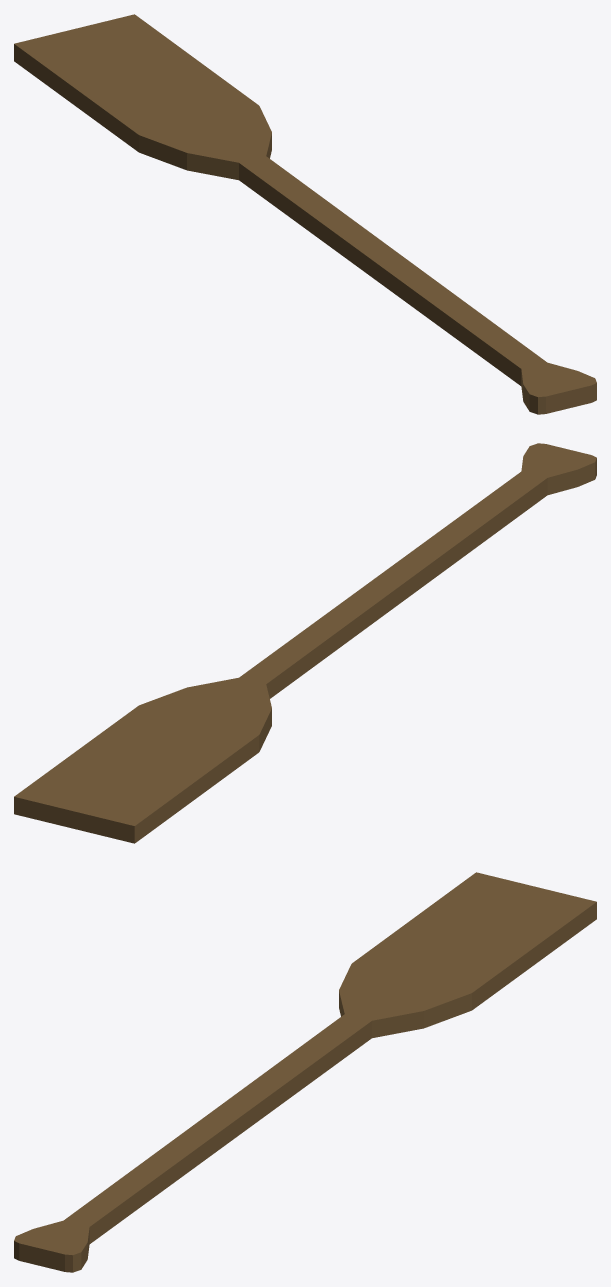
File: paddle LOD1.fbx
The picture shows the model from 3 angles, top to bottom: view 1: azimuth 30°, elevation 25°; view 2: azimuth 150°, elevation 25°; view 3: azimuth 330°, elevation 25°; orthographic projection.
Visible parts, largest first — view 1: Весло LOD1; view 2: Весло LOD1; view 3: Весло LOD1.
Boxes of the visible parts, x1,y1,x2,y2 form: Весло LOD1: (14, 14, 596, 414); Весло LOD1: (14, 443, 596, 843); Весло LOD1: (14, 872, 596, 1272).
Bounding box in the file's own units: 166 × 23 × 1177.
